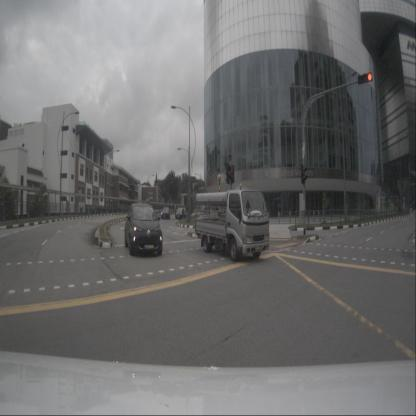vehicle-car: (124, 202, 163, 256), (161, 207, 171, 220), (175, 208, 185, 219)
vehicle-truck: (195, 189, 270, 262)
